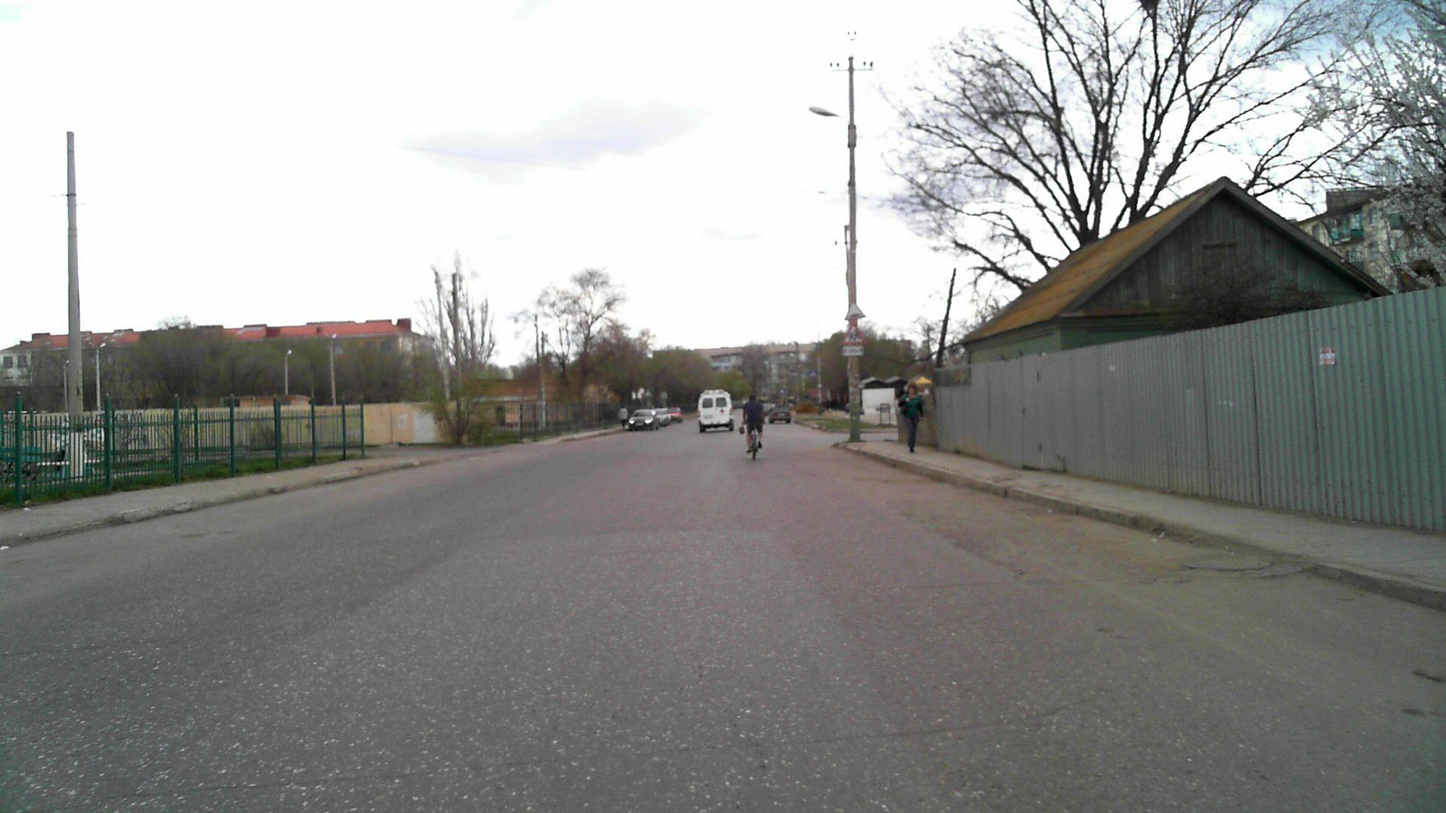road_sign: (840, 323, 868, 345), (844, 301, 866, 320)
